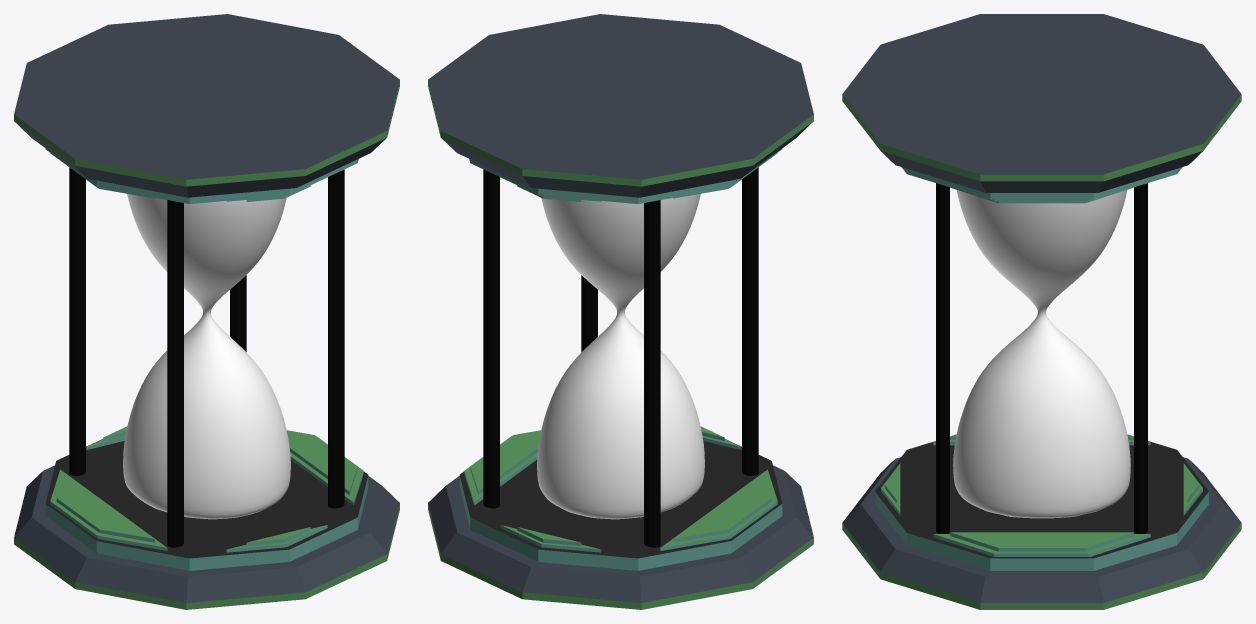
Rendered from hourglass.fbx.
The picture shows the model from 3 angles, left to right: view 1: azimuth 30°, elevation 25°; view 2: azimuth 150°, elevation 25°; view 3: azimuth 270°, elevation 25°; orthographic projection.
Visible parts, largest first — view 1: Cylinder, Vert, Cylinder.001; view 2: Cylinder, Vert, Cylinder.001; view 3: Cylinder, Vert, Cylinder.001.
Part boxes in pixels (x1,y1,x2,y2): Cylinder: (14, 14, 399, 609); Vert: (123, 194, 290, 519); Cylinder.001: (69, 167, 344, 547); Cylinder: (428, 14, 813, 609); Vert: (537, 194, 704, 519); Cylinder.001: (483, 167, 758, 547); Cylinder: (842, 14, 1241, 609); Vert: (953, 190, 1130, 518); Cylinder.001: (936, 183, 1147, 533).
Size of the model in its own units: 296 by 375 by 311.
